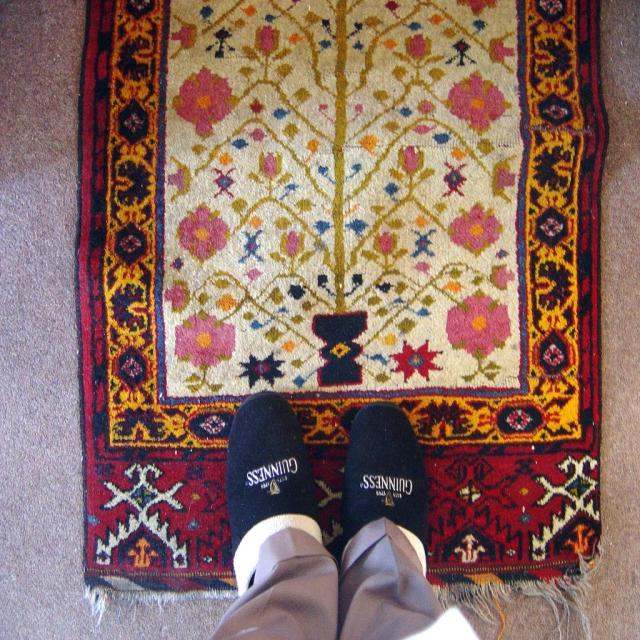guiness: (245, 457, 300, 499), (362, 473, 417, 511)
